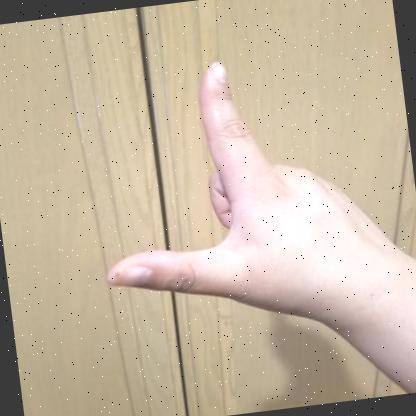L: (106, 61, 416, 326)
